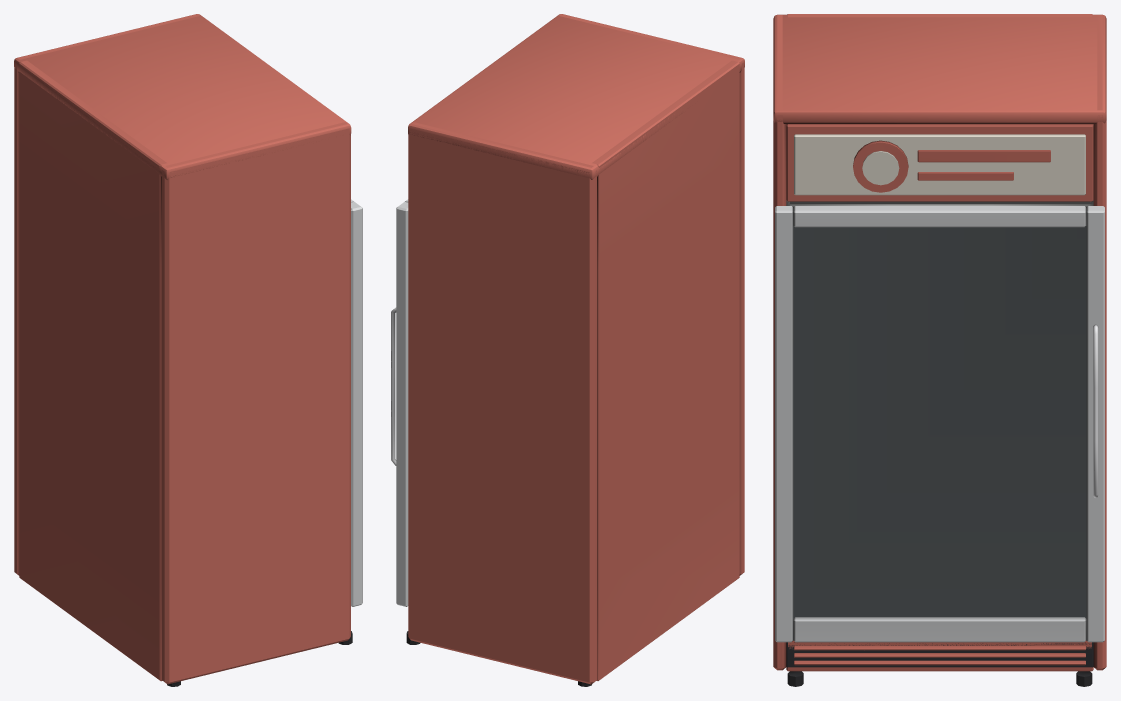
The model's file is icebox.glb.
3 views of the same model, side by side, from view 1: azimuth 30°, elevation 25°; view 2: azimuth 150°, elevation 25°; view 3: azimuth 270°, elevation 25° (orthographic). The views are drawn at different scales.
Visible parts, largest first — view 1: PART, DOOR; view 2: PART, DOOR; view 3: DOOR, PART.
Boxes of the visible parts, x1,y1,x2,y2 form: PART: (14,14,352,686); DOOR: (351,199,362,606); PART: (406,14,744,686); DOOR: (391,199,408,606); DOOR: (775,206,1104,642); PART: (773,14,1106,686).
Size of the model in its own units: 0.6985 by 1.7 by 0.9.
